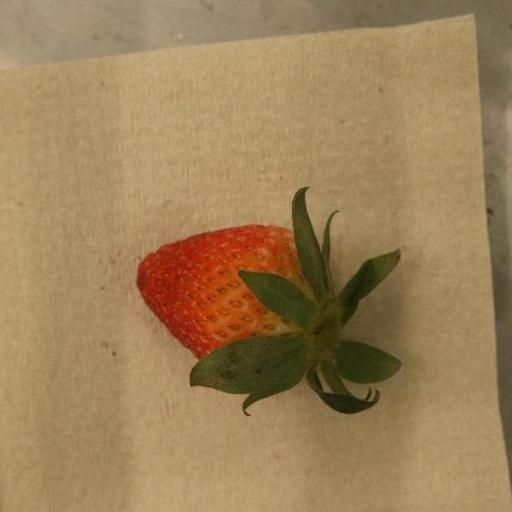Strawberry: (137, 187, 404, 418)
